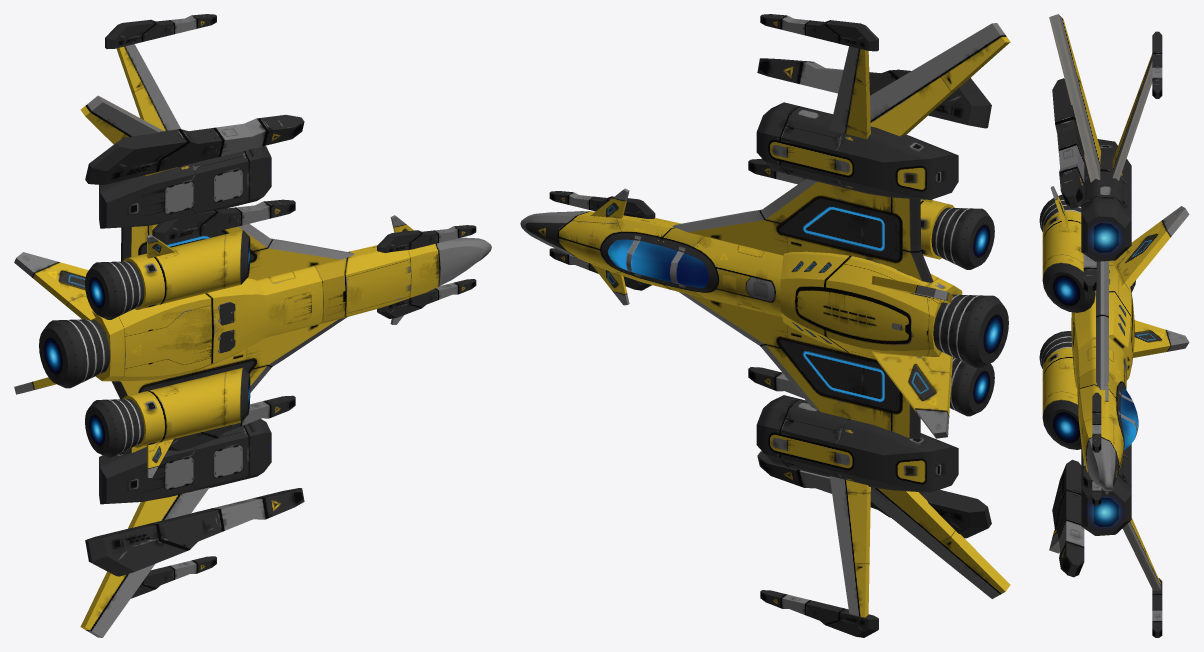
The picture shows the model from 3 angles, left to right: view 1: azimuth 30°, elevation 25°; view 2: azimuth 150°, elevation 25°; view 3: azimuth 270°, elevation 25°; orthographic projection. The views are drawn at different scales.
Visible parts, largest first — view 1: StarSparrow1; view 2: StarSparrow1; view 3: StarSparrow1.
Part boxes in pixels (box(x1,y1,x2,y2)): StarSparrow1: box(14, 14, 491, 637); StarSparrow1: box(520, 14, 1010, 637); StarSparrow1: box(1039, 14, 1189, 637).
Size of the model in its own units: 10.8 by 13.48 by 3.2.
Materials: 1 (1 with a texture image).
